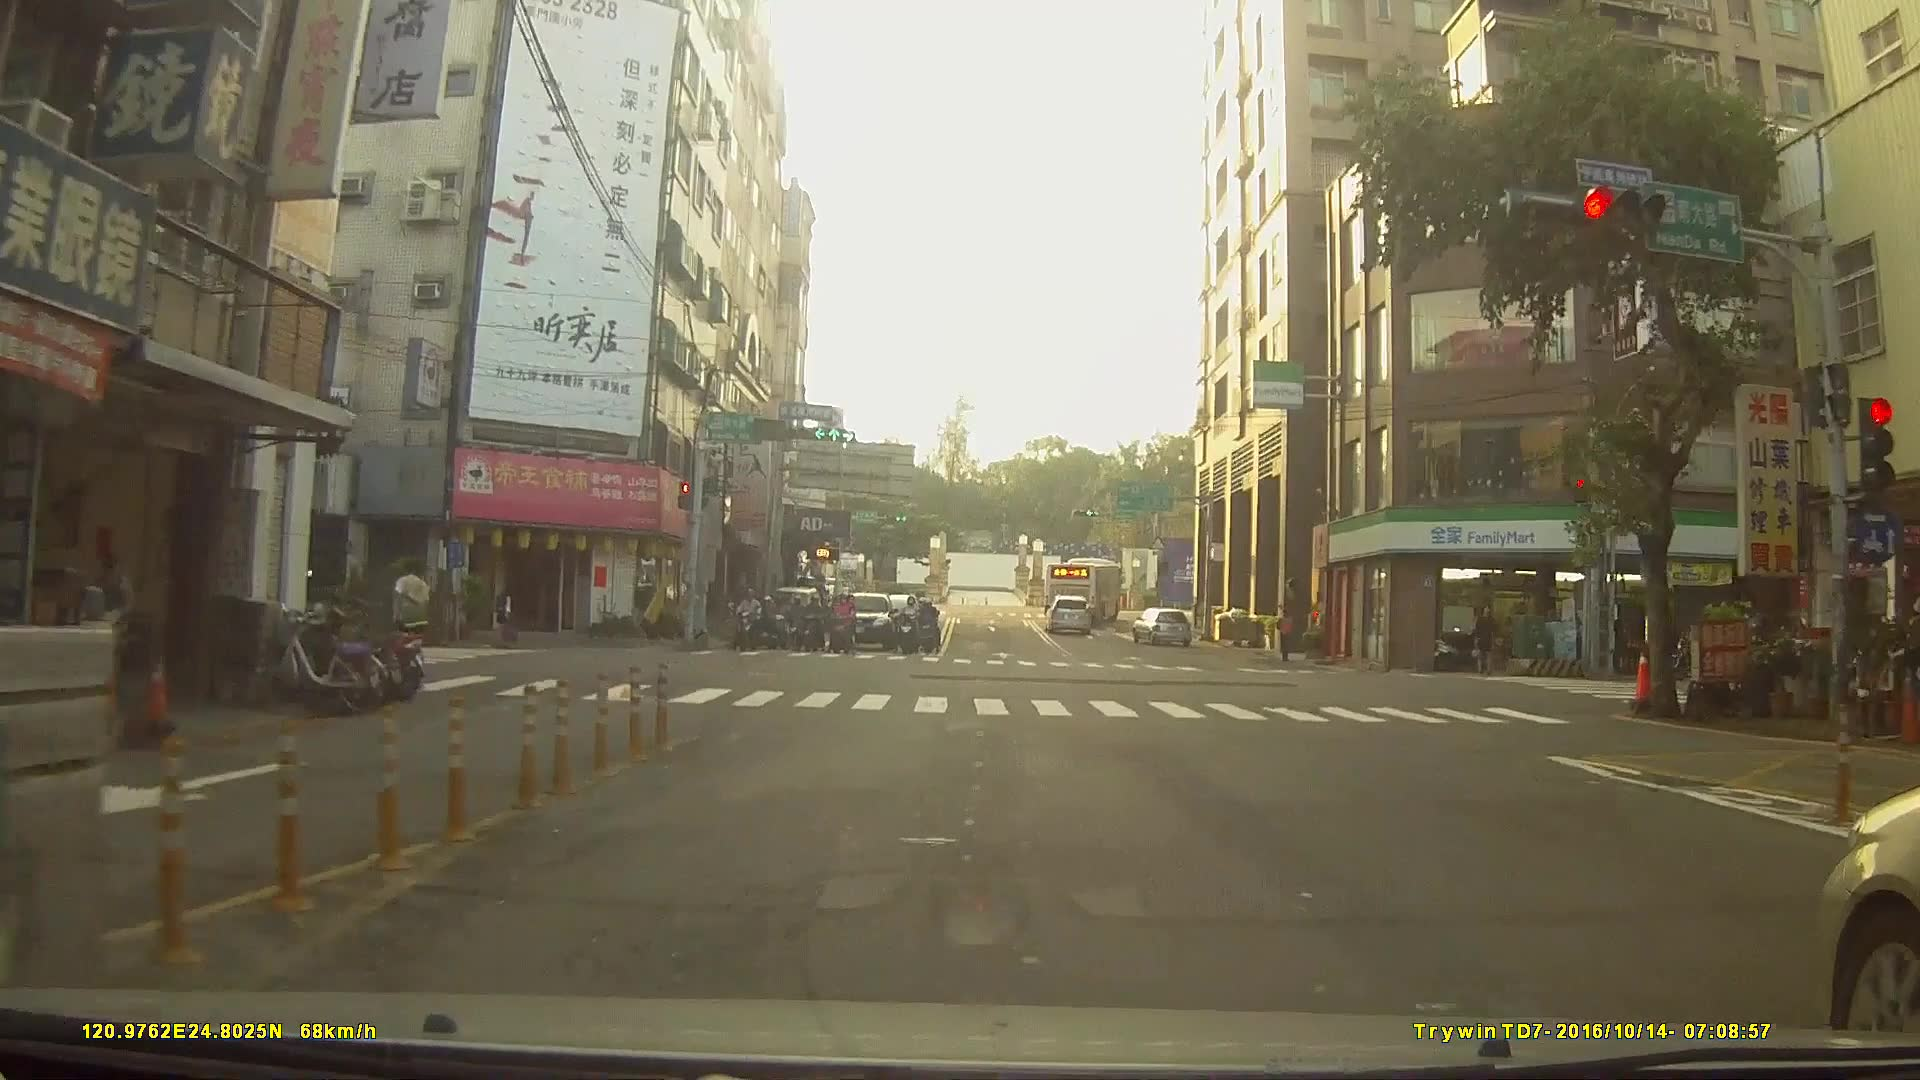pedestrian: (390, 560, 436, 674), (1474, 604, 1499, 679), (495, 592, 519, 651), (1277, 609, 1297, 665)
rider: (731, 593, 763, 659), (826, 598, 857, 664), (801, 598, 828, 657), (896, 594, 920, 658), (767, 593, 794, 649), (918, 604, 942, 662)
vehicle: (1043, 556, 1124, 620), (830, 590, 896, 655), (1130, 606, 1192, 646), (1043, 594, 1094, 635)
